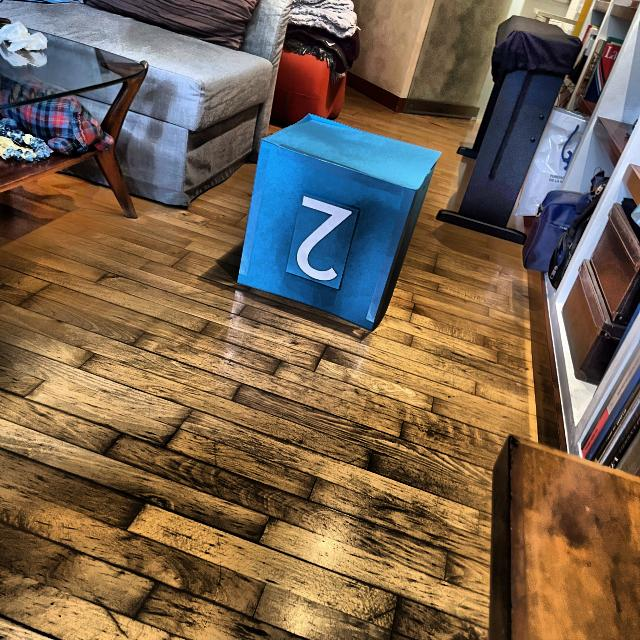blue box: (236, 111, 444, 336)
two: (291, 192, 355, 284)
